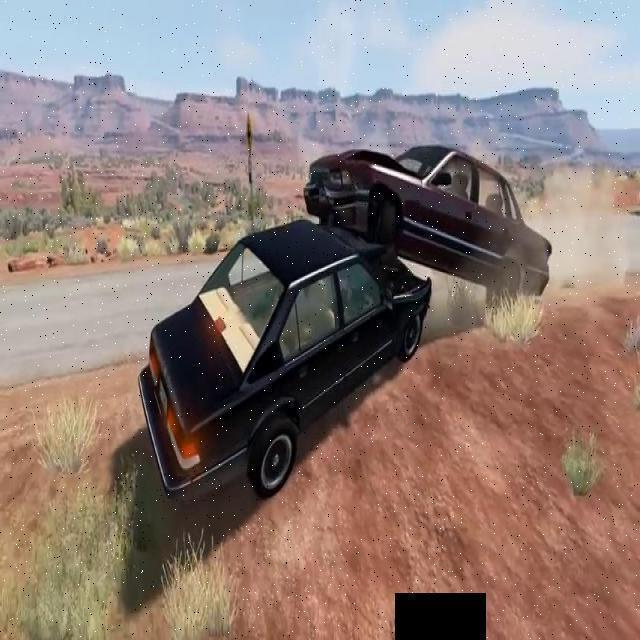accident: (135, 126, 554, 520)
